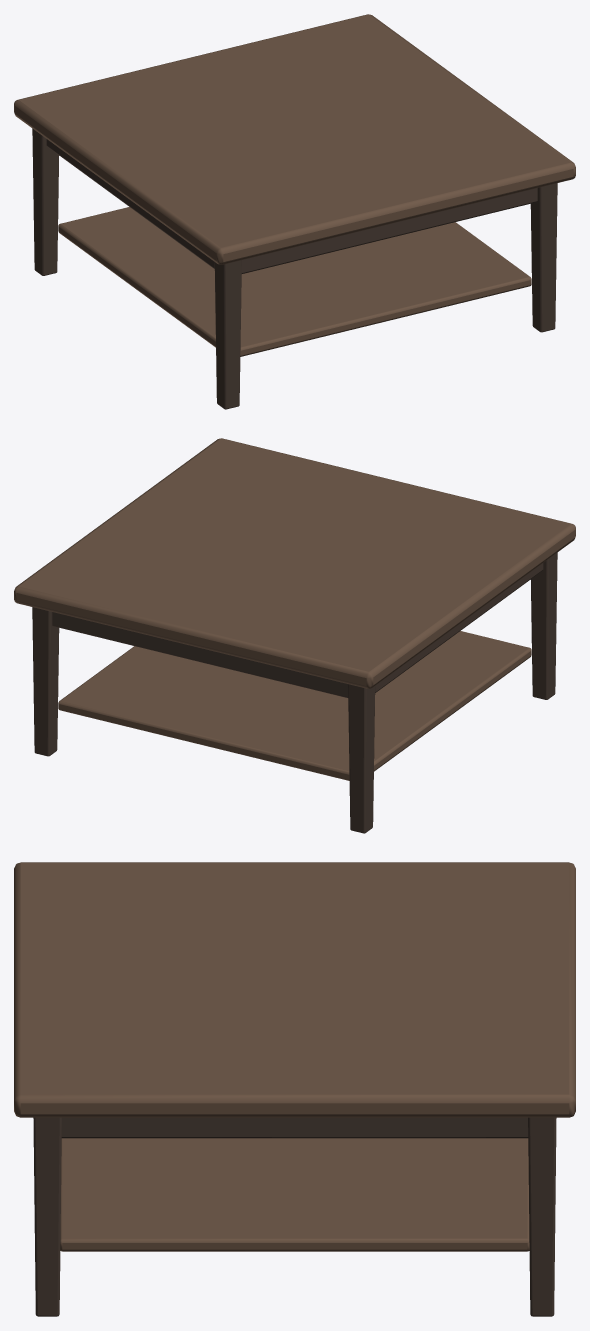
The model's file is coffee_table.fbx.
The picture shows the model from 3 angles, top to bottom: view 1: azimuth 30°, elevation 25°; view 2: azimuth 150°, elevation 25°; view 3: azimuth 270°, elevation 25°; orthographic projection. The views are drawn at different scales.
Parts seen in each view (by area): view 1: coffee_table; view 2: coffee_table; view 3: coffee_table.
Boxes of the visible parts, bbox=[...] form: coffee_table: bbox=[14, 14, 575, 409]; coffee_table: bbox=[14, 438, 575, 833]; coffee_table: bbox=[14, 862, 575, 1316].
Size of the model in its own units: 1 by 1 by 0.45.
